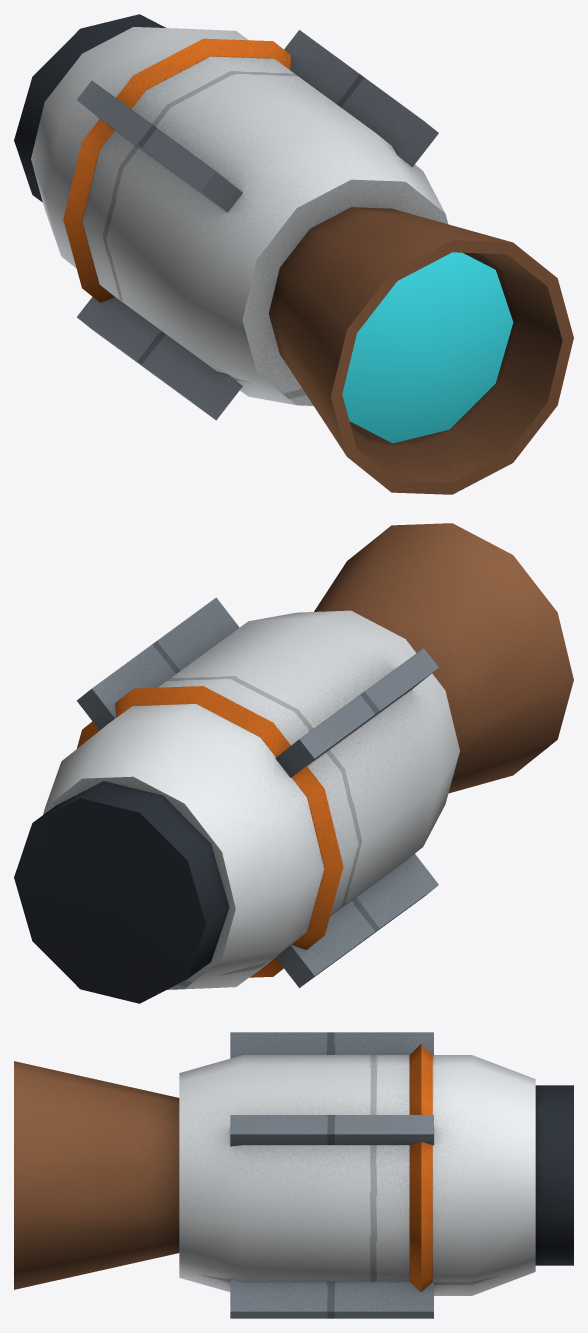
File: motor_basico.fbx
3 renders of one model, top to bottom at view 1: azimuth 30°, elevation 25°; view 2: azimuth 150°, elevation 25°; view 3: azimuth 270°, elevation 25°, orthographic. The views are drawn at different scales.
Parts seen in each view (by area): view 1: motor_basico, motor_basico_neon; view 2: motor_basico; view 3: motor_basico.
Boxes of the visible parts, x1,y1,x2,y2 form: motor_basico: (14, 14, 573, 494); motor_basico_neon: (342, 252, 513, 443); motor_basico: (14, 523, 573, 1003); motor_basico: (14, 1032, 573, 1318).
Size of the model in its own units: 2.08 by 2.08 by 4.4.
Materials: 2 (2 with a texture image).
